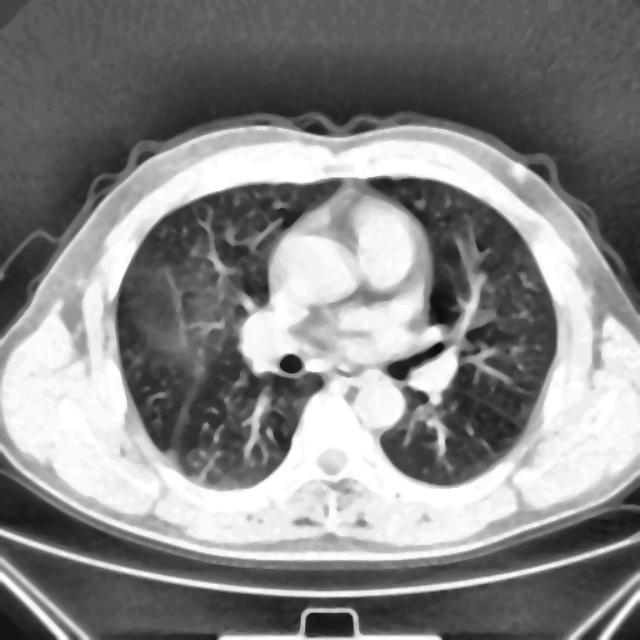covid: (0, 110, 639, 569)
